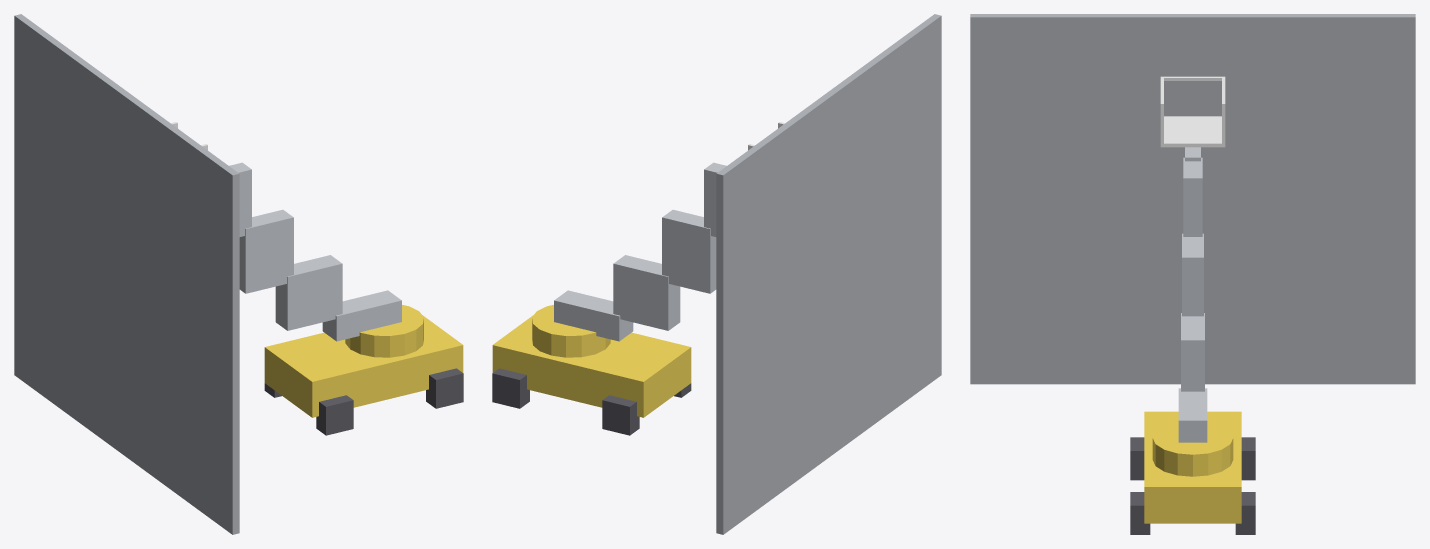
Rendered from wing-robot-boom-lift.glb.
3 renders of one model, left to right at view 1: azimuth 30°, elevation 25°; view 2: azimuth 150°, elevation 25°; view 3: azimuth 270°, elevation 25°, orthographic. The views are drawn at different scales.
Parts seen in each view (by area): view 1: Robot · boom lift; view 2: Robot · boom lift; view 3: Robot · boom lift.
Part boxes in pixels (bbox=[...]): Robot · boom lift: bbox=[14, 14, 463, 534]; Robot · boom lift: bbox=[492, 14, 941, 534]; Robot · boom lift: bbox=[970, 14, 1415, 534].
Size of the model in its own units: 9.2 by 10 by 11.
